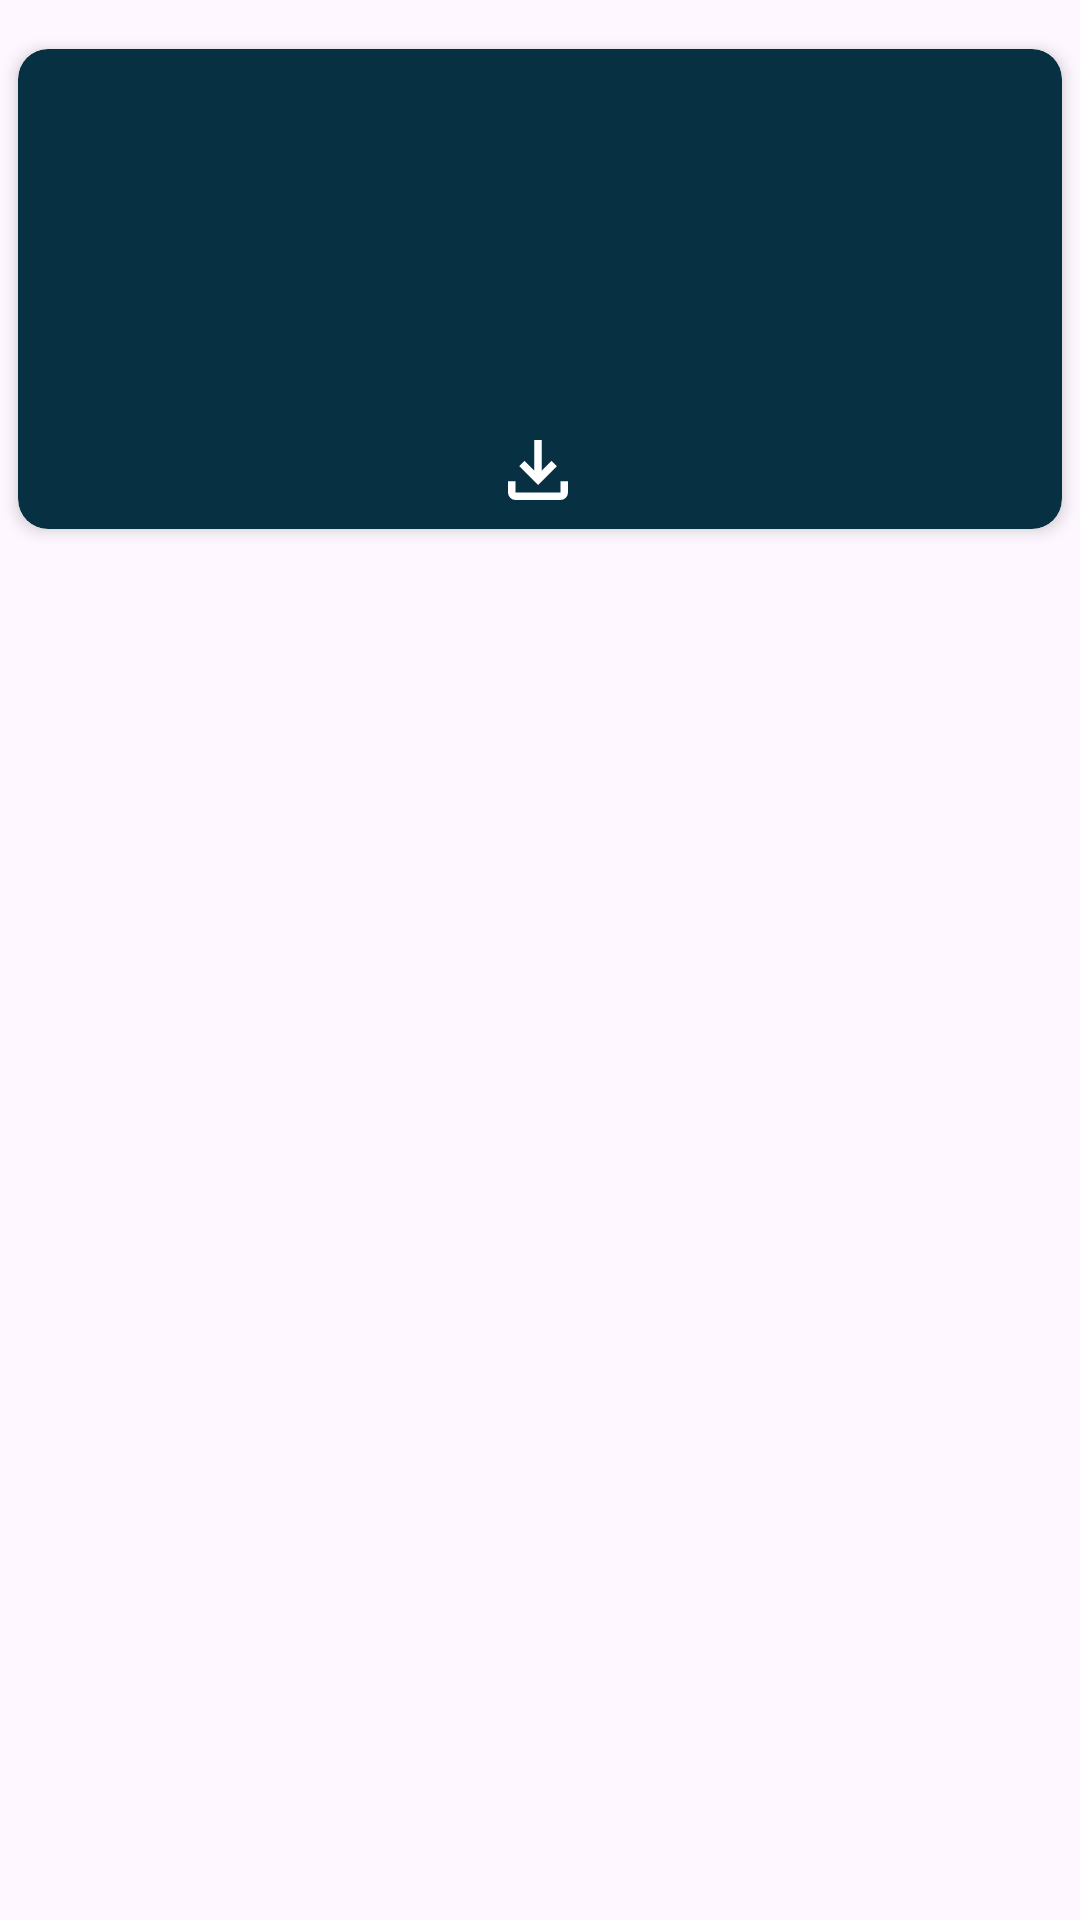

Icons on this 1080px×1920px Android screen, each with the point to tap as (x=x, y=y):
download: (x=538, y=470)
